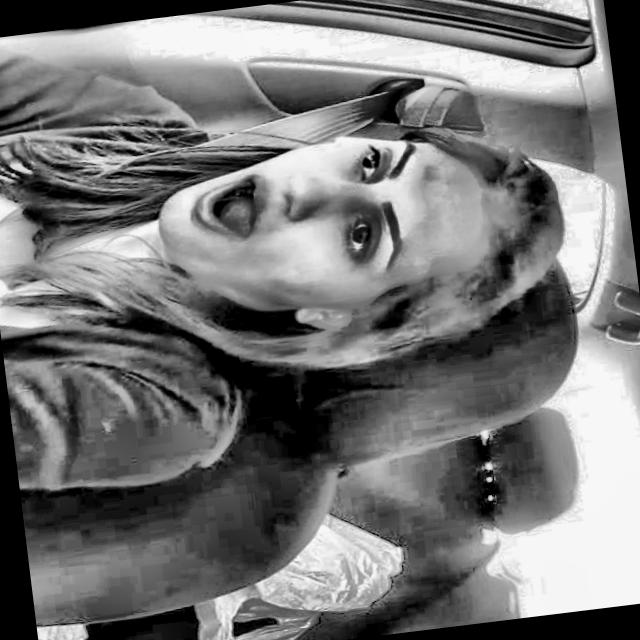open_eyes: (330, 201, 385, 273), (339, 135, 393, 191)
open_mouth: (172, 161, 274, 255)
